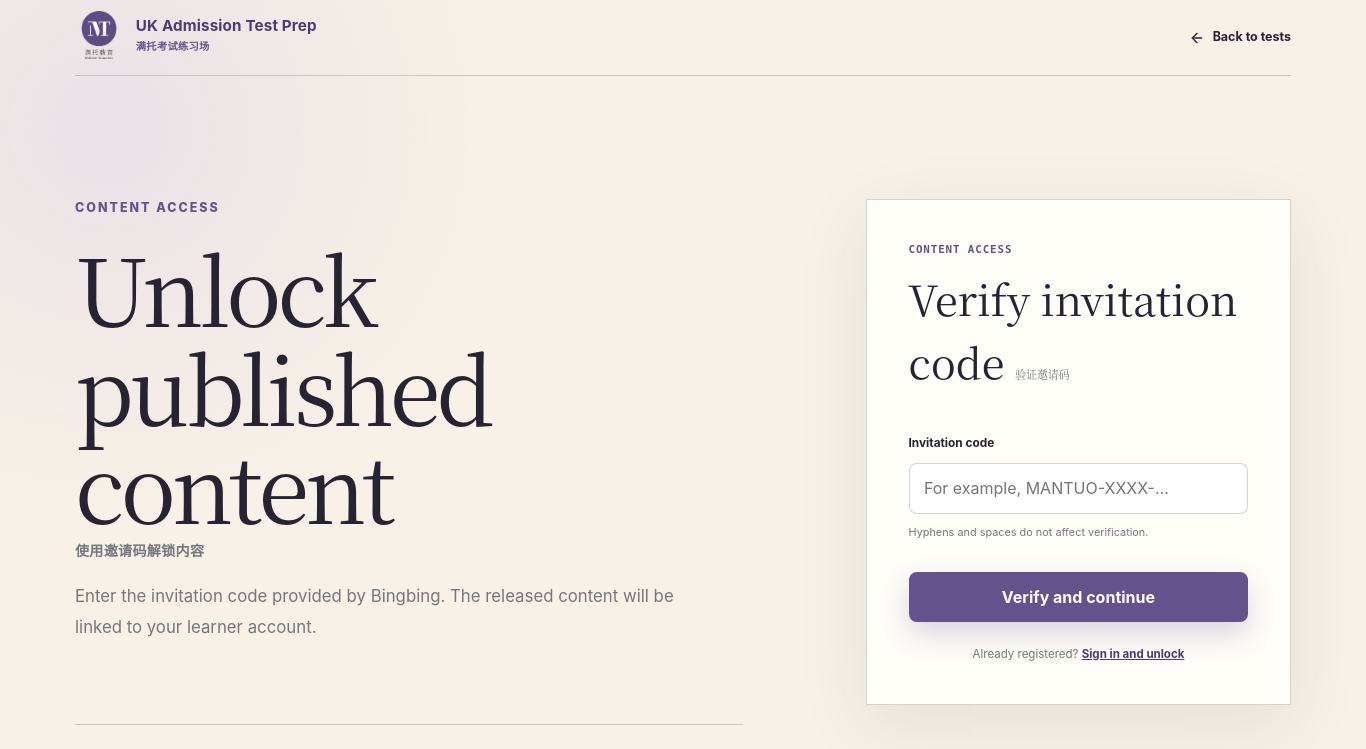
invite-first account access flow › keeps a valid code out of pending storage when signed-in redemption fails
Type "MANTUO-TMUA-LOCAL-2026-ACCESS" into the field labelled "Invitation code". click: (1078, 488)
box: [908,463,1248,514]
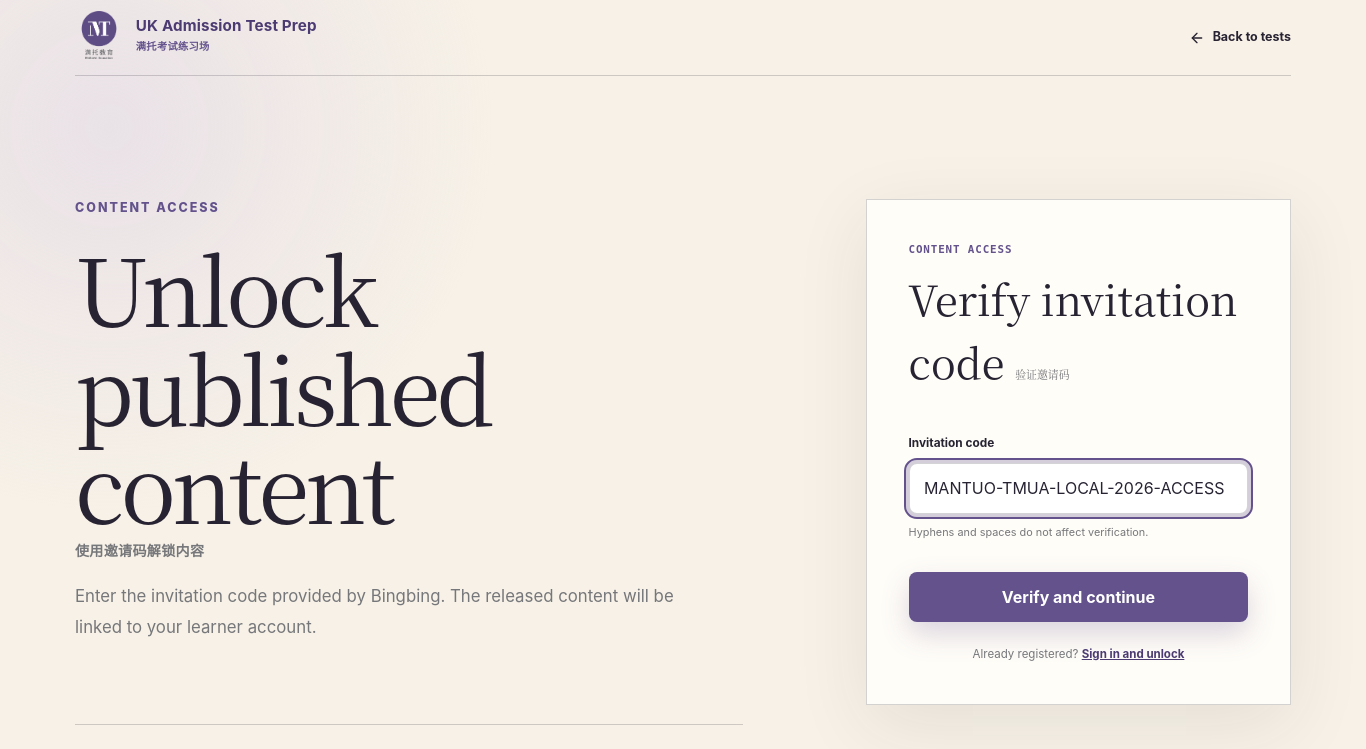
Click the button "Verify and continue". click: click(1078, 597)
box: [908,572,1248,622]
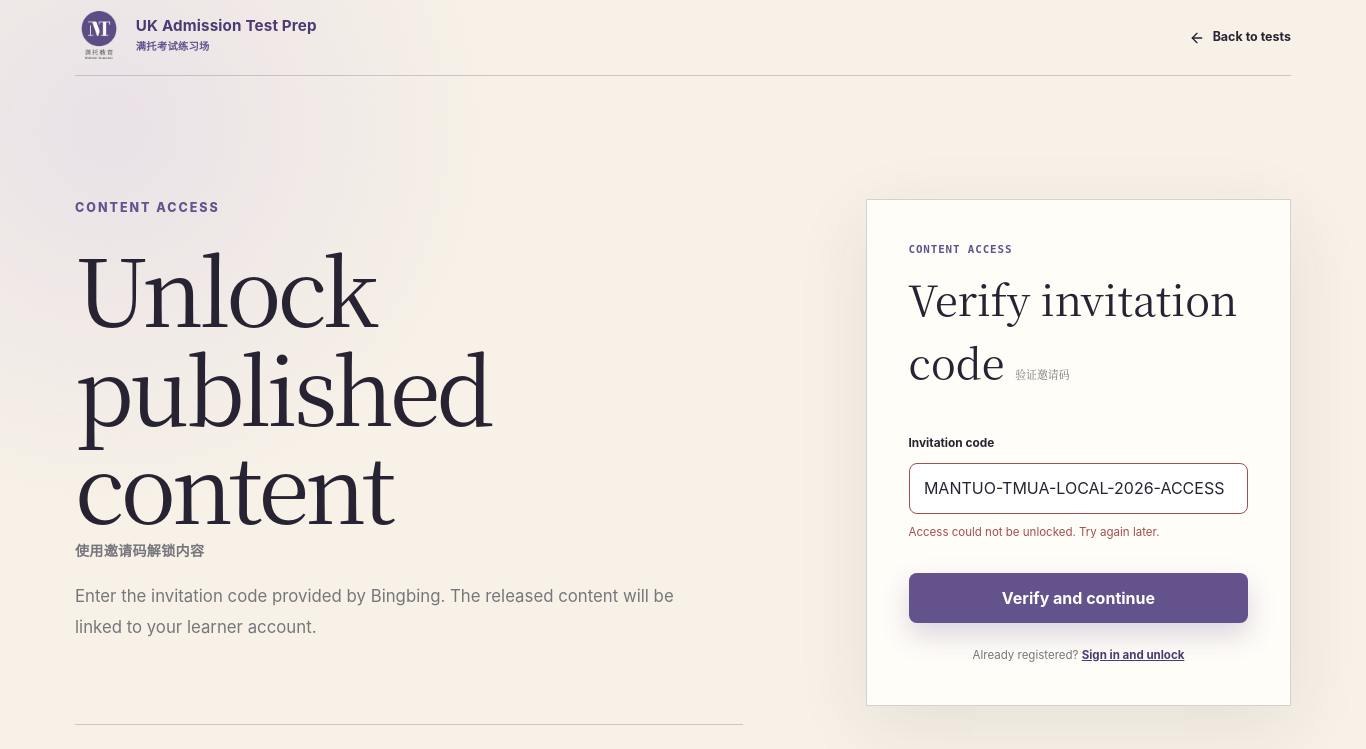
Check: the message reads "Access could not be unlocked. Try again later.", box [908,525,1160,539]
